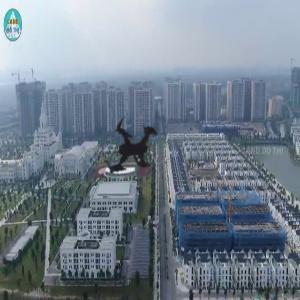drone: (42, 60, 217, 235)
